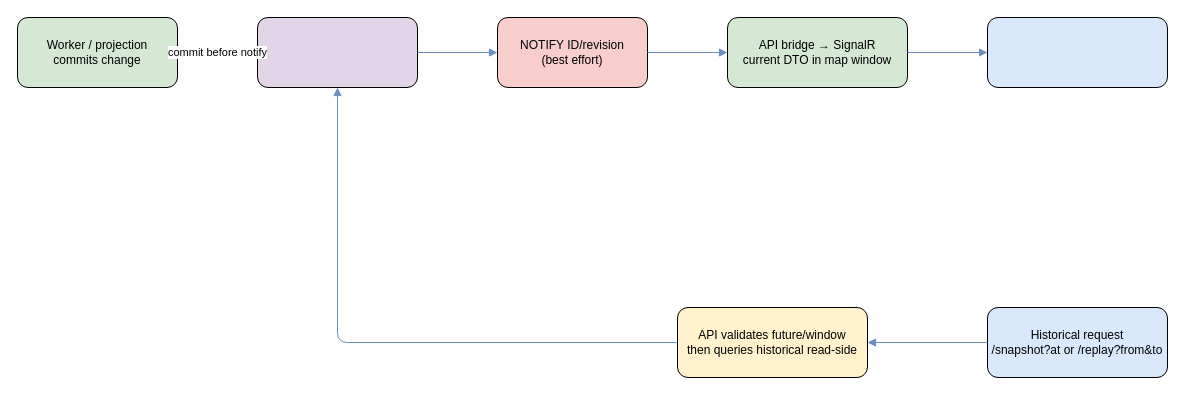
This 1185x395 diagram has some shape labels left out. Each missing label, with the centre of its shape:
Client: highest revision or Resync → REST reload: point (1077, 52)
PostgreSQL read model: point (337, 52)
